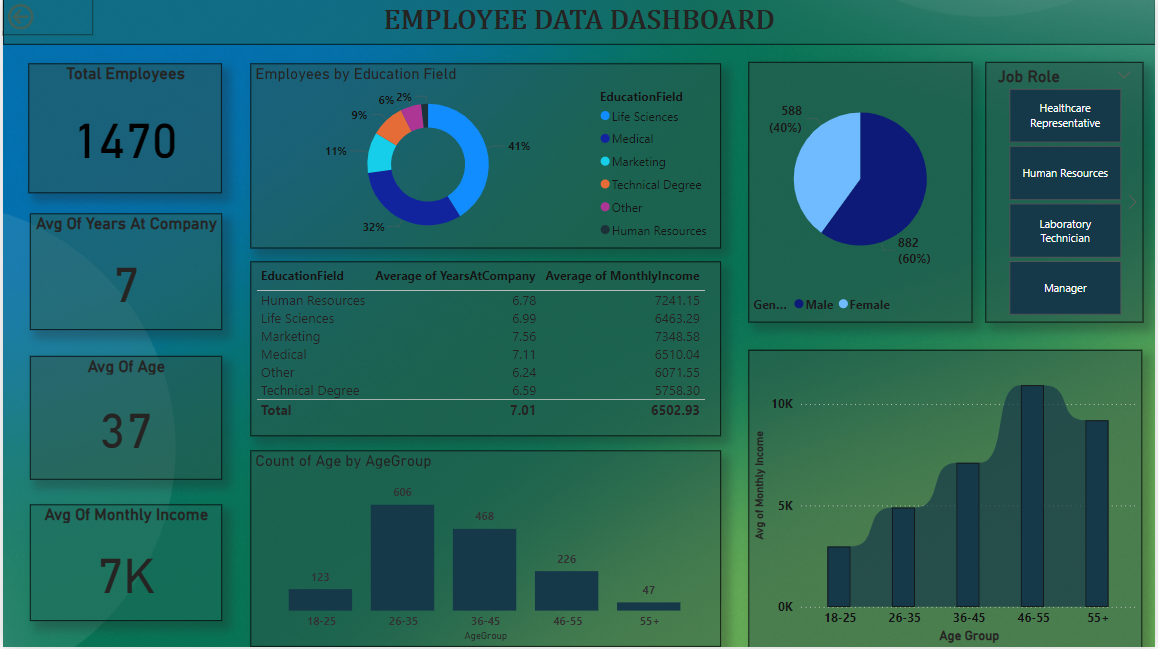

The dashboard page shown, as its layout file describes it:
{"tool":"powerbi","page":{"name":"Employee Data","canvas":[1280,720],"ordinal":0},"visuals":[{"type":"card","title":"Total Employees","fields":{"Values":["Count(HR_Analytics.EmpID)"]},"box":[28.4,71.1,214.7,143.7],"z":0},{"type":"card","title":"Avg Of Monthly Income","fields":{"Values":["Avg(HR_Analytics.MonthlyIncome)"]},"box":[30,562.1,213.2,129.5],"z":1000},{"type":"card","title":"Avg Of Age","fields":{"Values":["Avg(HR_Analytics.Age)"]},"box":[30,396.3,213.2,137.4],"z":2000},{"type":"actionButton","box":[0,0,100,40],"z":3000},{"type":"card","title":"Avg Of Years At Company","fields":{"Values":["Avg(HR_Analytics.YearsAtCompany)"]},"box":[30,238.4,213.2,129.5],"z":4000},{"type":"donutChart","title":"Employees by Education Field","fields":{"Category":["HR_Analytics.EducationField"],"Y":["Sum(HR_Analytics.EmployeeCount)"]},"box":[274.7,71.1,522.6,205.3],"z":5000},{"type":"columnChart","fields":{"Category":["HR_Analytics.AgeGroup"],"Y":["CountNonNull(HR_Analytics.Age)"]},"box":[274.7,502.1,522.6,217.9],"z":6000},{"type":"tableEx","fields":{"Values":["HR_Analytics.EducationField","Avg(HR_Analytics.YearsAtCompany)","Avg(HR_Analytics.MonthlyIncome)"]},"box":[274.7,292.1,522.6,194.2],"z":7000},{"type":"ribbonChart","fields":{"Category":["HR_Analytics.AgeGroup"],"Y":["Avg(HR_Analytics.MonthlyIncome)"]},"box":[828.4,389.2,437.6,331.4],"z":8000},{"type":"pieChart","fields":{"Category":["HR_Analytics.Gender"],"Y":["Sum(HR_Analytics.EmployeeCount)"]},"box":[828.4,70.3,248.5,289.2],"z":9000},{"type":"textbox","box":[0,0,1280.5,50.5],"z":10000},{"type":"slicer","fields":{"Values":["HR_Analytics.JobRole"]},"box":[1091,70.3,175.1,289.2],"z":11000}]}

Visuals, with their boxes in screenshot pixels (x1, y1, x2, y2), scaled from the page's 1280x720 canvas onto the 1158x649 screenshot:
"Total Employees" card: [26, 64, 220, 194]
"Avg Of Monthly Income" card: [27, 507, 220, 623]
"Avg Of Age" card: [27, 357, 220, 481]
actionButton: [0, 0, 90, 36]
"Avg Of Years At Company" card: [27, 215, 220, 332]
"Employees by Education Field" donutChart: [249, 64, 721, 249]
columnChart - HR_Analytics.AgeGroup x CountNonNull(HR_Analytics.Age): [249, 453, 721, 648]
tableEx - HR_Analytics.EducationField x Avg(HR_Analytics.YearsAtCompany): [249, 263, 721, 438]
ribbonChart - HR_Analytics.AgeGroup x Avg(HR_Analytics.MonthlyIncome): [749, 351, 1145, 648]
pieChart - HR_Analytics.Gender x Sum(HR_Analytics.EmployeeCount): [749, 63, 974, 324]
textbox: [0, 0, 1157, 46]
slicer - HR_Analytics.JobRole: [987, 63, 1145, 324]
